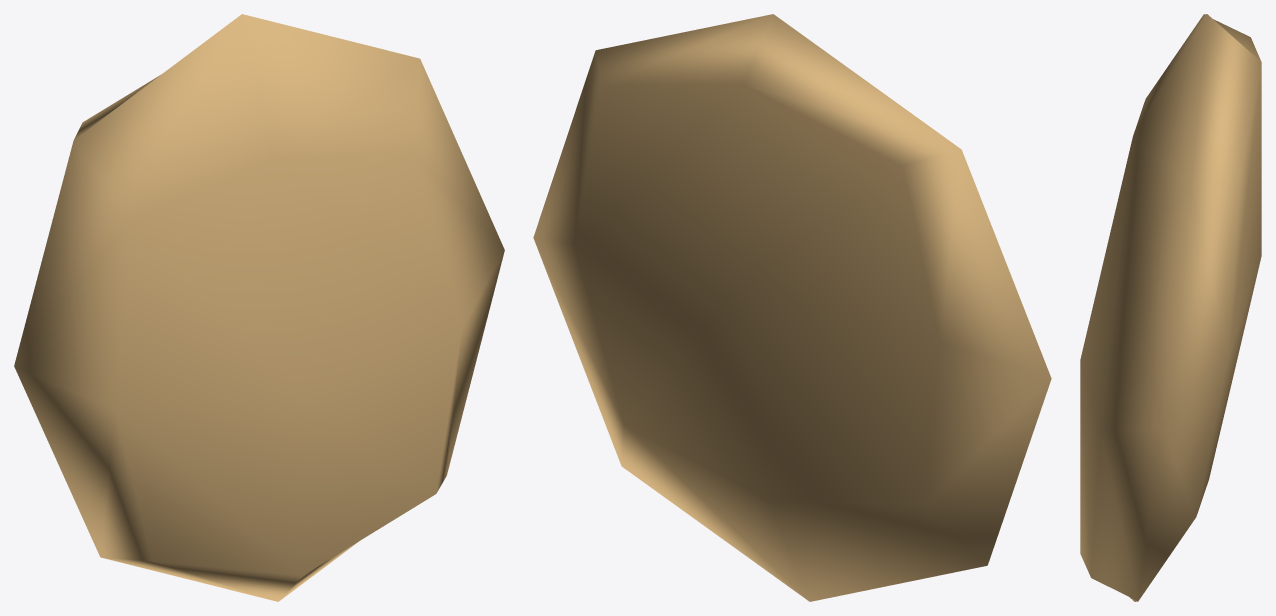
File: claw_T3_right_lower.obj
3 views of the same model, side by side, from view 1: azimuth 30°, elevation 25°; view 2: azimuth 150°, elevation 25°; view 3: azimuth 270°, elevation 25° (orthographic). The views are drawn at different scales.
Bounding box in the file's own units: 0.0032 × 0.00357 × 0.001.
